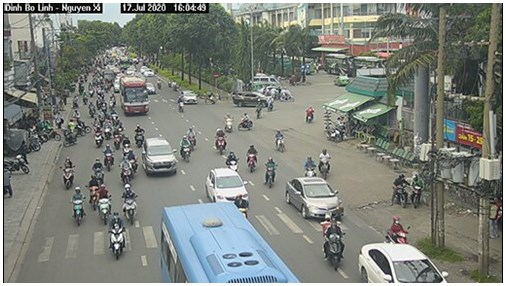xe_buyt: (149, 202, 302, 283), (118, 73, 151, 118)
xe_hoi: (284, 170, 346, 223), (203, 164, 252, 212), (142, 135, 181, 179)
xe_may: (313, 215, 346, 272), (106, 211, 127, 259), (379, 215, 411, 244), (120, 182, 139, 225), (94, 183, 112, 227), (388, 170, 409, 207), (409, 171, 430, 208), (71, 184, 86, 228), (261, 156, 278, 191), (237, 109, 256, 140), (59, 155, 76, 189), (212, 125, 228, 156), (317, 148, 333, 179), (272, 124, 288, 155), (244, 142, 260, 173), (101, 144, 116, 172), (179, 137, 193, 164), (303, 104, 317, 131), (118, 156, 132, 183), (90, 157, 104, 180), (132, 124, 145, 148), (91, 124, 103, 147)
